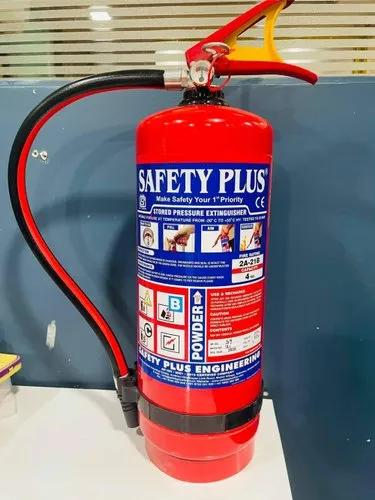floor-kept: (2, 0, 333, 487)
